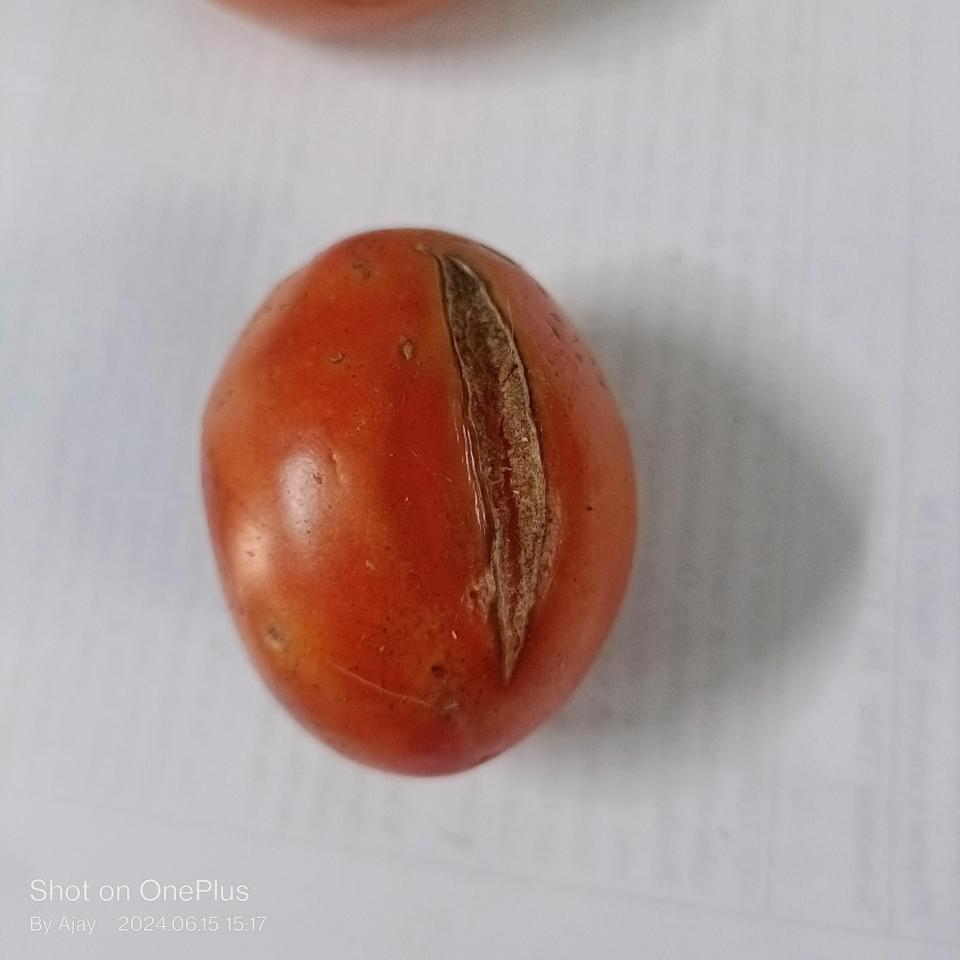Cracking: (439, 256, 550, 680)
